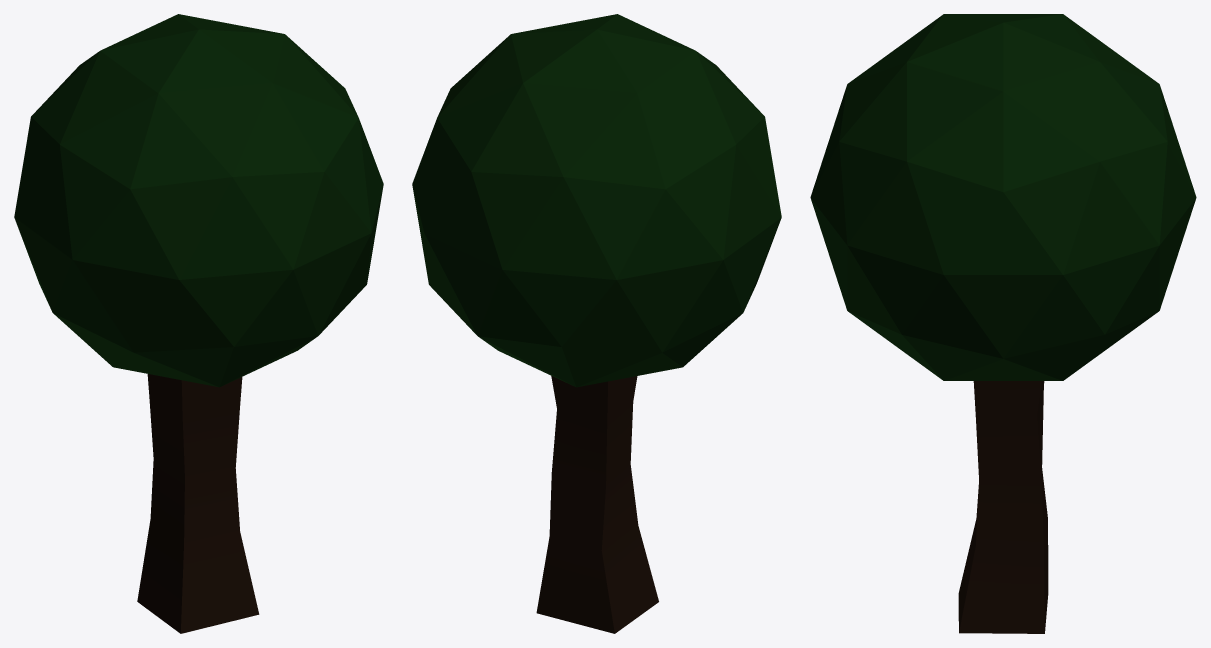
File: RoundedTree2.FBX
The picture shows the model from 3 angles, left to right: view 1: azimuth 30°, elevation 25°; view 2: azimuth 150°, elevation 25°; view 3: azimuth 270°, elevation 25°; orthographic projection. The views are drawn at different scales.
Parts seen in each view (by area): view 1: GeoSphere001, Box001; view 2: GeoSphere001, Box001; view 3: GeoSphere001, Box001.
Part boxes in pixels (<box>): GeoSphere001: <box>14,14,383,387</box>; Box001: <box>137,374,259,633</box>; GeoSphere001: <box>412,14,781,387</box>; Box001: <box>536,376,658,633</box>; GeoSphere001: <box>810,14,1196,380</box>; Box001: <box>958,381,1048,633</box>.
Bounding box in the file's own units: 28.53 × 50.69 × 30.
